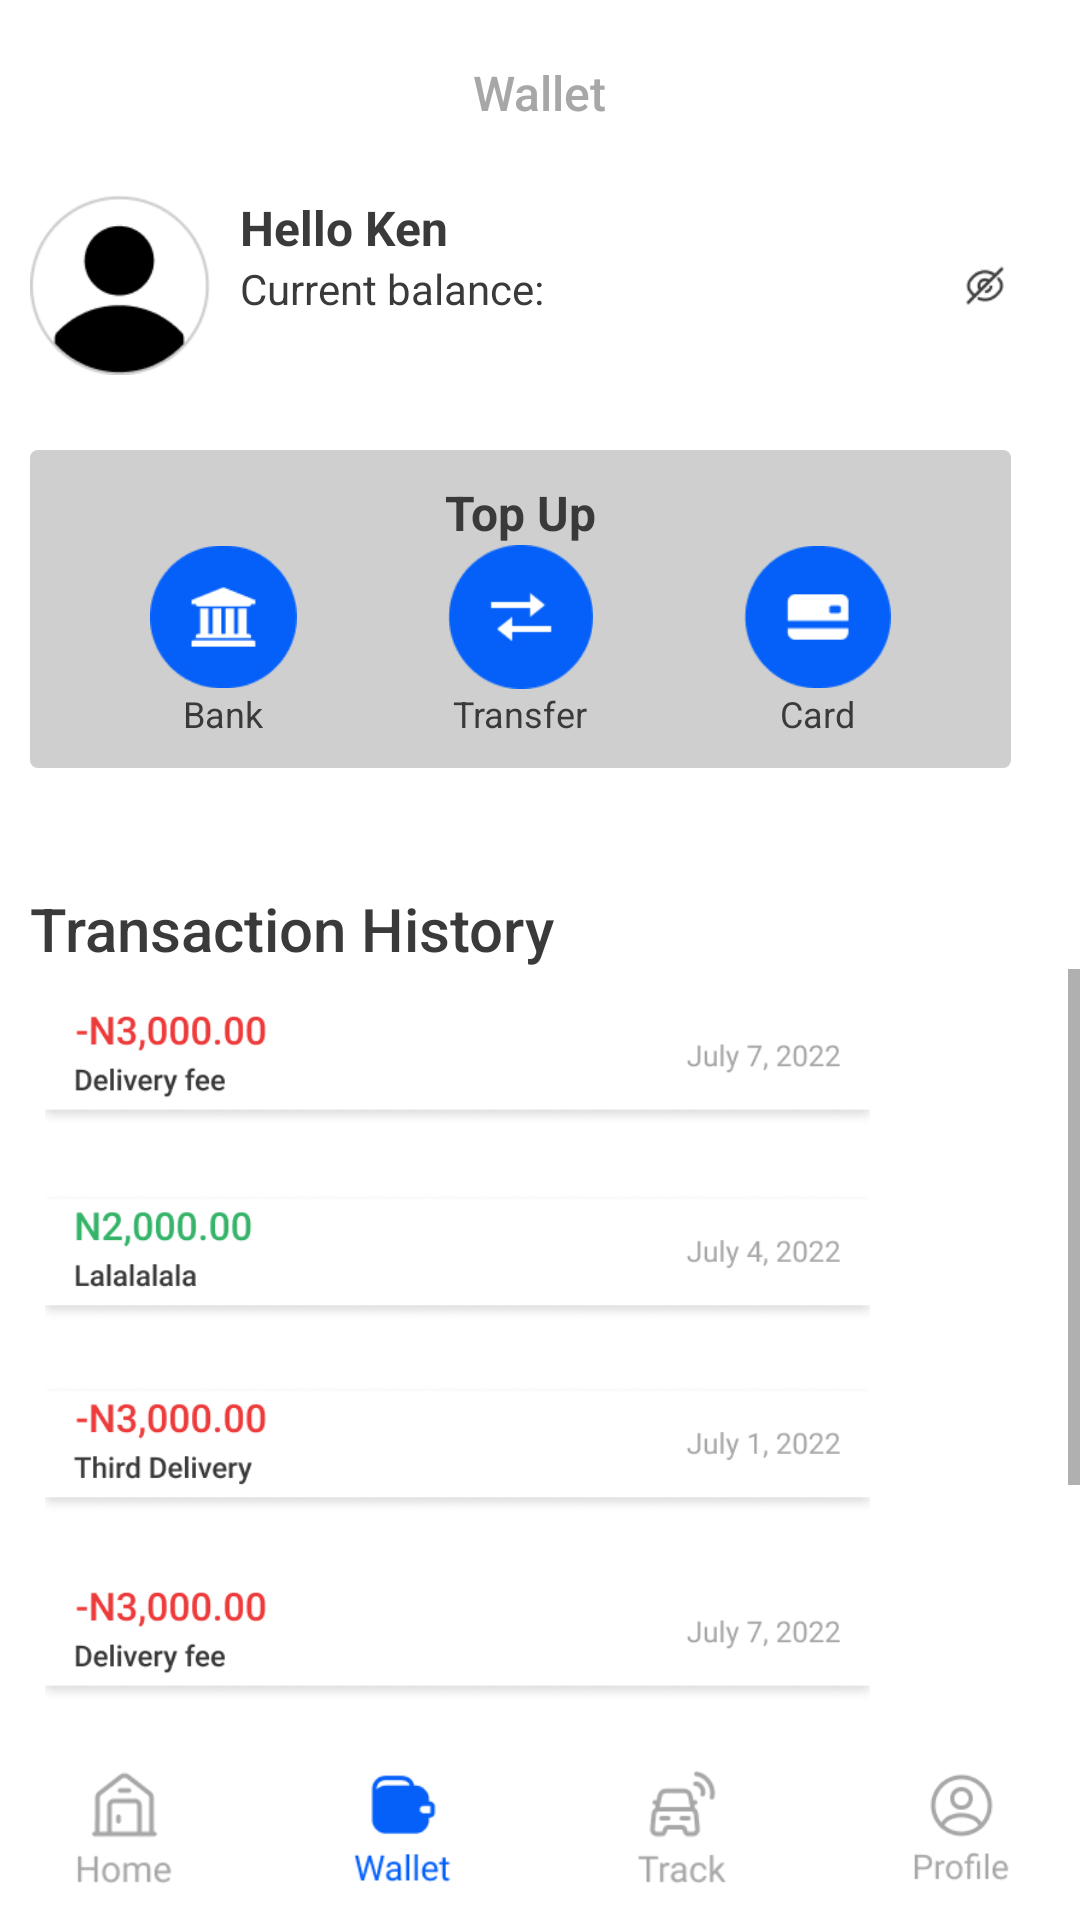

Where icons sit on this 1080 × 1920 app screen, as (x1, y1, x2, y2):
eyelish: (966, 266, 1004, 305)
